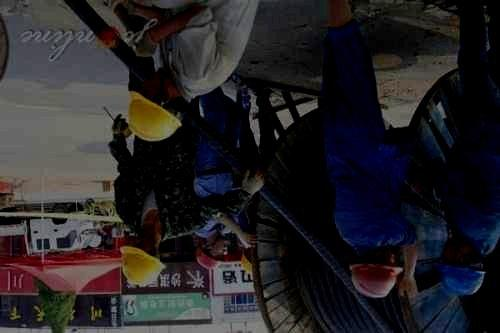helmet: (126, 66, 186, 141), (120, 221, 166, 288), (350, 244, 404, 298), (439, 239, 486, 296), (195, 235, 226, 270)
